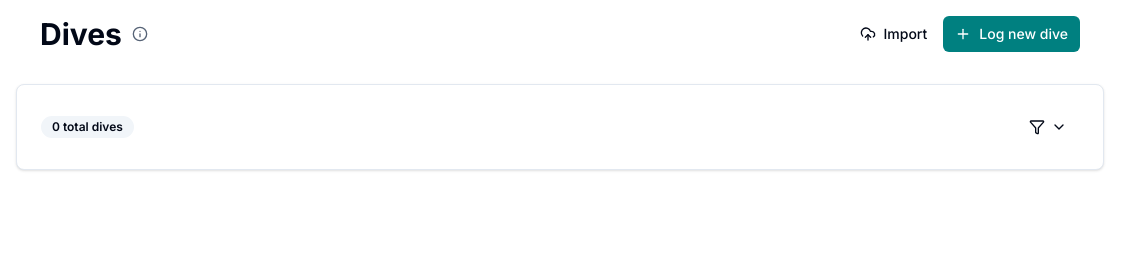
DivesPageFrame › keeps the filters shut until the button is pressed
expect the field labelled "Tag" is not shown: met
What coordinates should you click on to do the following:
click the button named "Filter and sort dives"
I would click on:
 (1048, 127)
Its box is [1017, 109, 1079, 145].
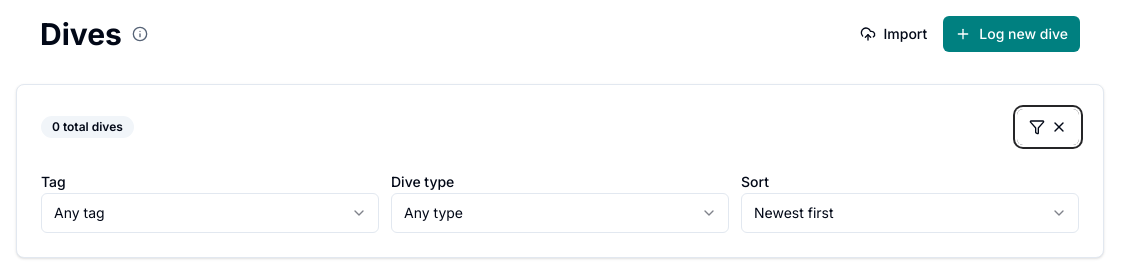
expect the dropdown labelled "Tag" is shown: met, box [41, 193, 379, 233]
expect the dropdown labelled "Dive type" is shown: met, box [391, 193, 729, 233]
expect the dropdown labelled "Sort" is shown: met, box [741, 193, 1079, 233]
